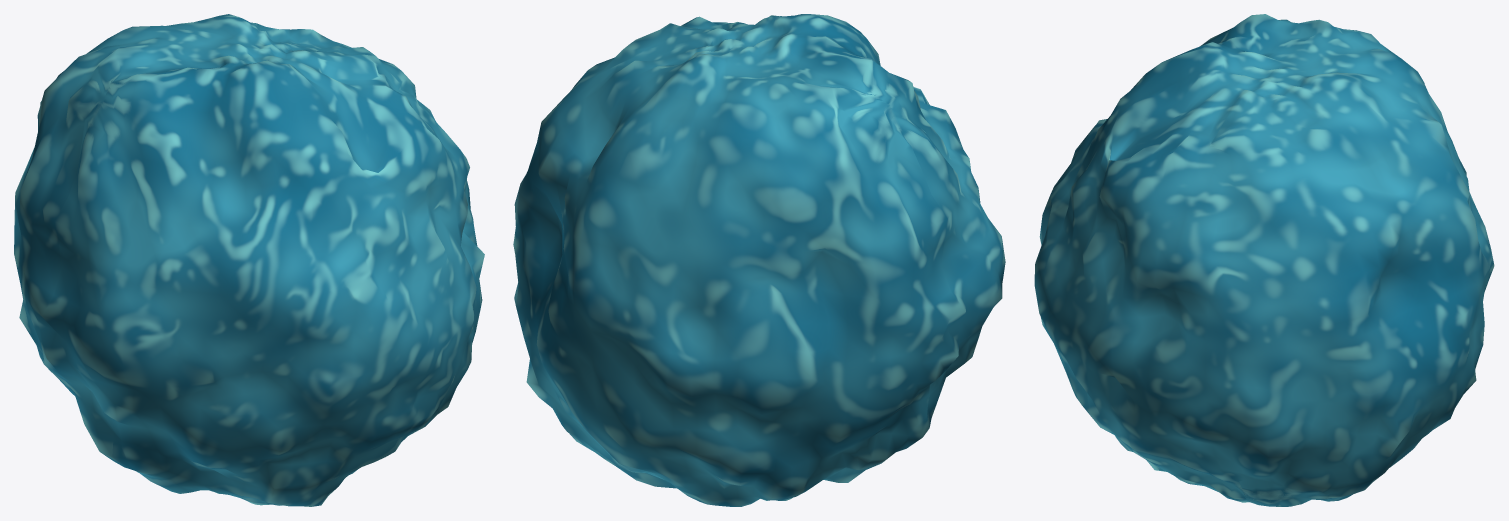
Rendered from Active Cell.fbx.
3 views of the same model, side by side, from view 1: azimuth 30°, elevation 25°; view 2: azimuth 150°, elevation 25°; view 3: azimuth 270°, elevation 25° (orthographic). The views are drawn at different scales.
Parts seen in each view (by area): view 1: Active/inactive; view 2: Active/inactive; view 3: Active/inactive.
Boxes of the visible parts, left/top/right/bottom form: Active/inactive: left=14, top=14, right=484, bottom=506; Active/inactive: left=513, top=14, right=1005, bottom=506; Active/inactive: left=1034, top=14, right=1494, bottom=506.
Bounding box in the file's own units: 183 × 184 × 183.
1 material, 1 textured.
